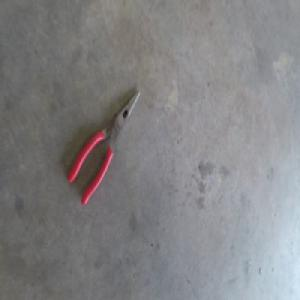Pliers: (65, 86, 138, 204)
